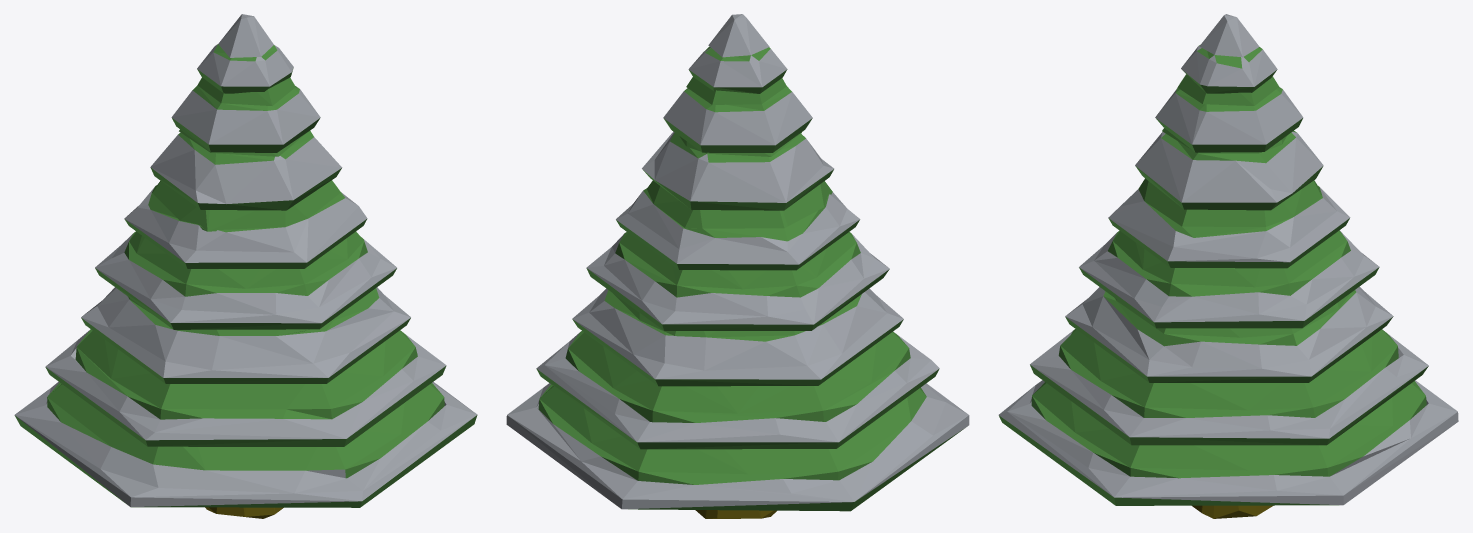
File: tree2_1.fbx
3 views of the same model, side by side, from view 1: azimuth 30°, elevation 25°; view 2: azimuth 150°, elevation 25°; view 3: azimuth 270°, elevation 25° (orthographic).
Parts seen in each view (by area): view 1: Cylinder.005; view 2: Cylinder.005; view 3: Cylinder.005.
Boxes of the visible parts, left/top/right/bottom form: Cylinder.005: left=14, top=14, right=477, bottom=518; Cylinder.005: left=506, top=14, right=969, bottom=518; Cylinder.005: left=998, top=14, right=1458, bottom=518.
Size of the model in its own units: 297 by 399 by 343.
